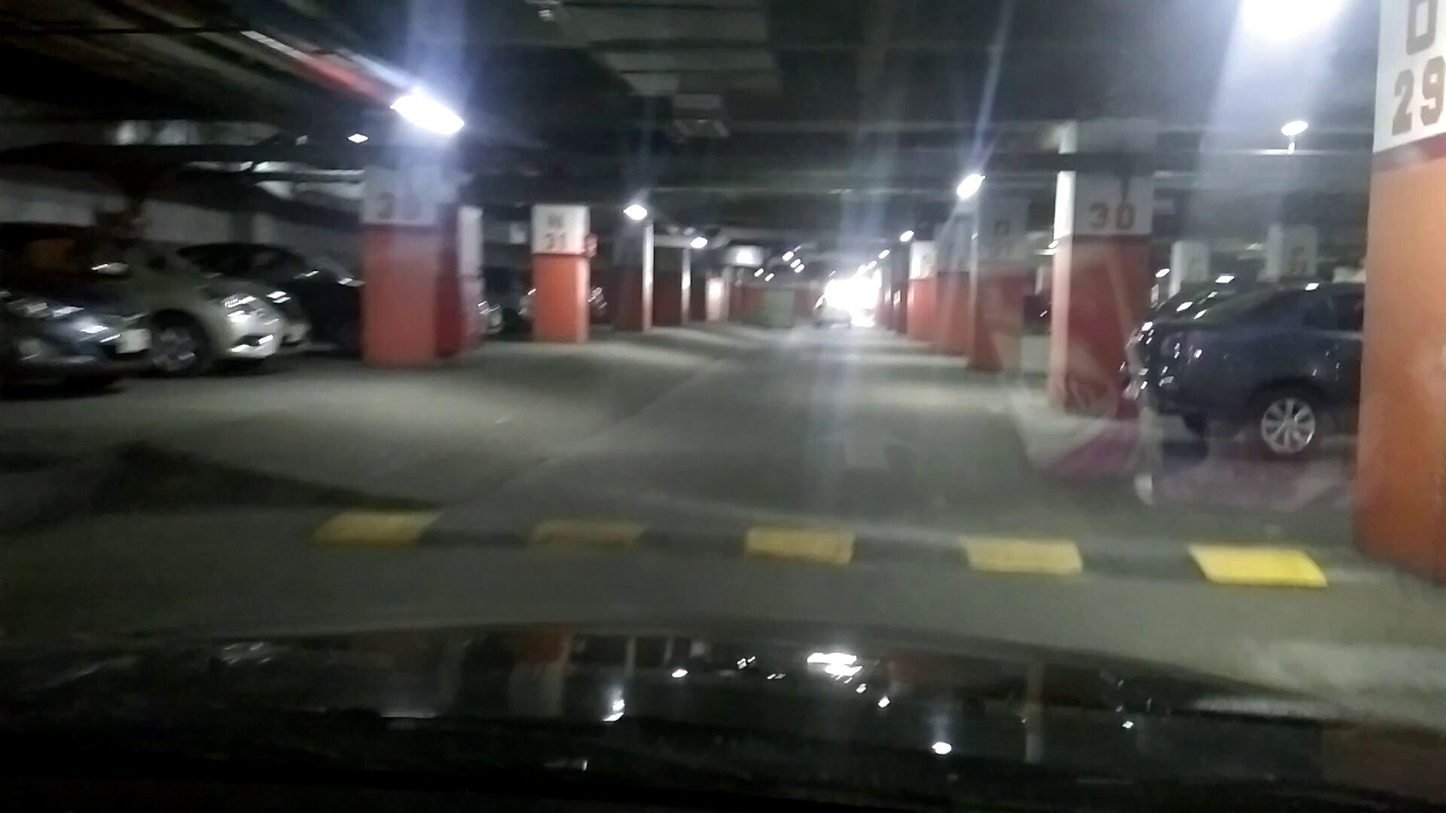Bump: (281, 487, 1333, 602)
